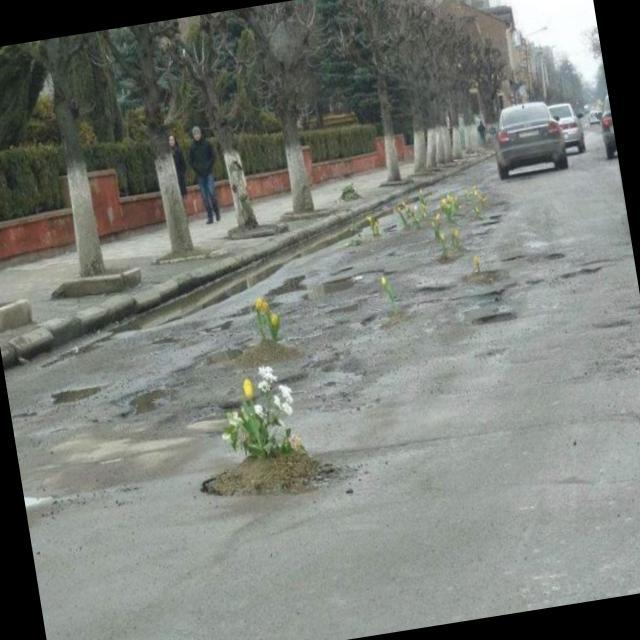Pothole: (188, 414, 348, 522), (212, 314, 312, 372), (312, 259, 414, 305), (108, 379, 175, 443), (501, 236, 581, 274), (260, 268, 317, 316), (462, 300, 537, 336), (562, 261, 620, 298), (157, 321, 209, 356), (56, 380, 119, 405), (476, 280, 529, 298), (360, 306, 392, 330)
